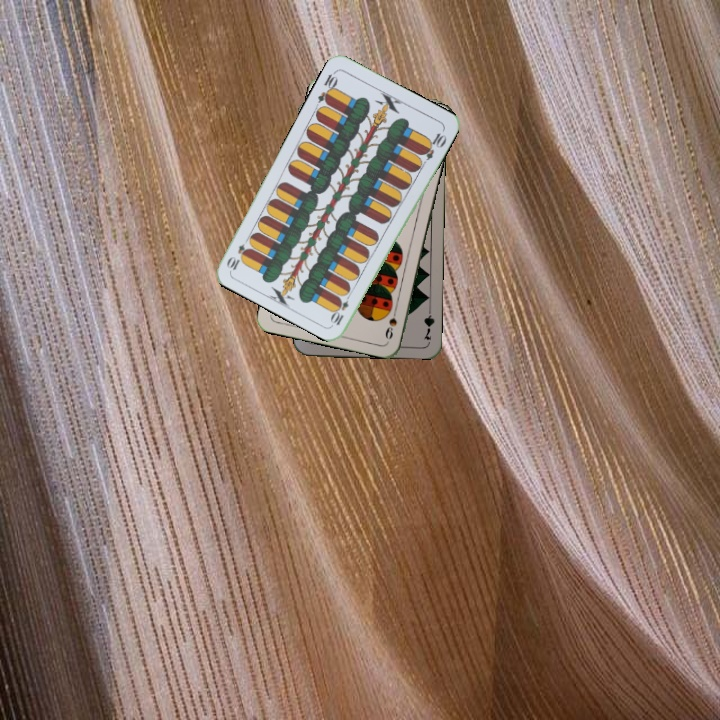E10: (314, 67, 341, 107), (328, 289, 354, 328)
G7: (419, 302, 437, 343)
S9: (381, 302, 400, 341)
